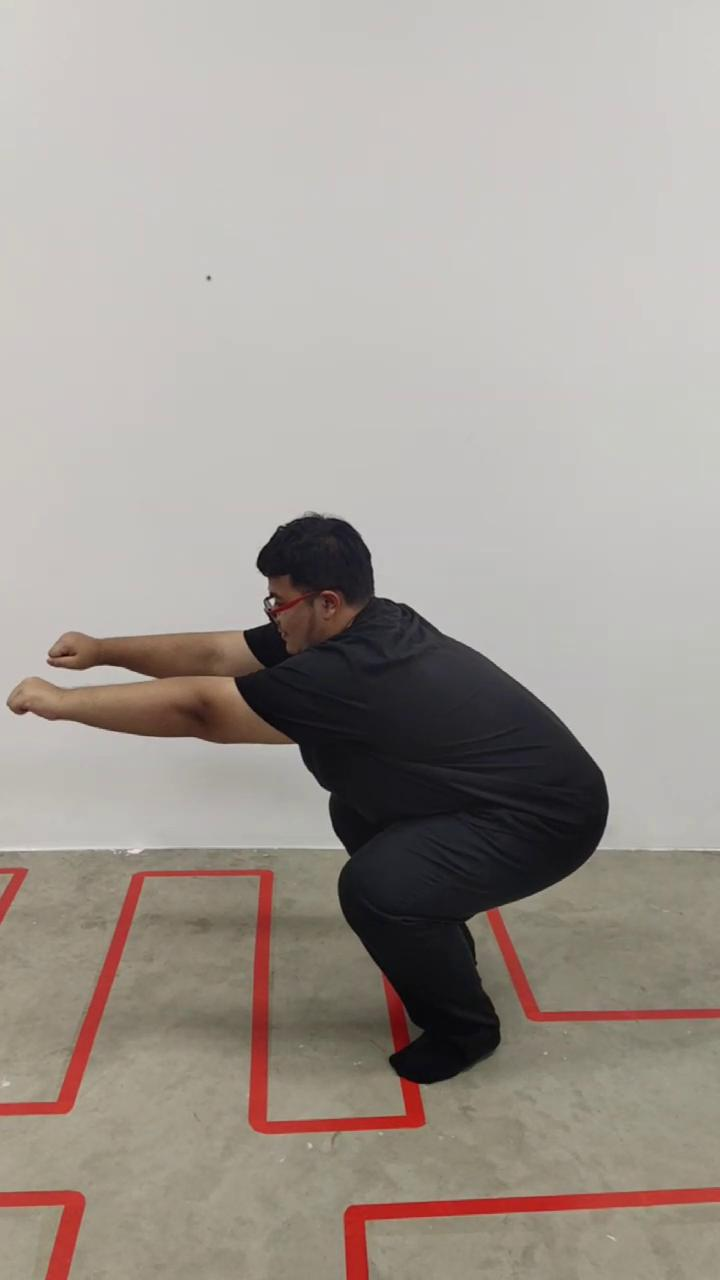squat down: (14, 513, 608, 1083)
